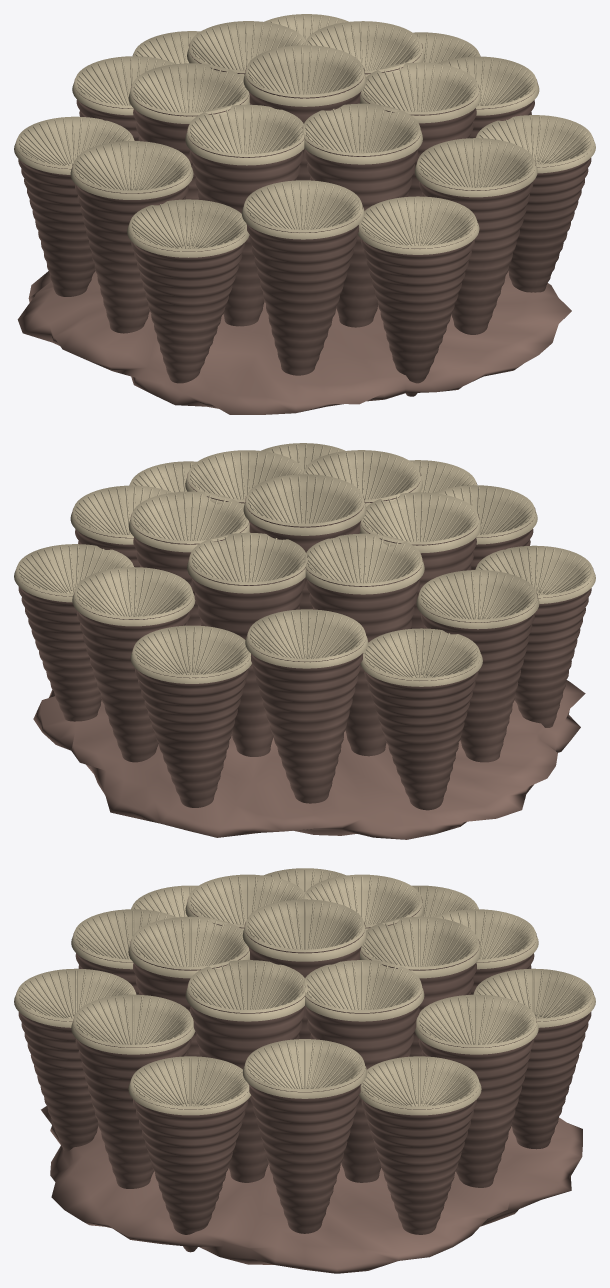
The model's file is colonial-rugose-coral.glb.
3 renders of one model, top to bottom at view 1: azimuth 30°, elevation 25°; view 2: azimuth 150°, elevation 25°; view 3: azimuth 270°, elevation 25°, orthographic.
Parts seen in each view (by area): view 1: colonial-rugose-coral; view 2: colonial-rugose-coral; view 3: colonial-rugose-coral.
Part boxes in pixels (x1,y1,x2,y2): colonial-rugose-coral: (14, 14, 595, 414); colonial-rugose-coral: (14, 443, 595, 839); colonial-rugose-coral: (14, 868, 595, 1273).
Size of the model in its own units: 0.0954 by 0.0455 by 0.0985.
